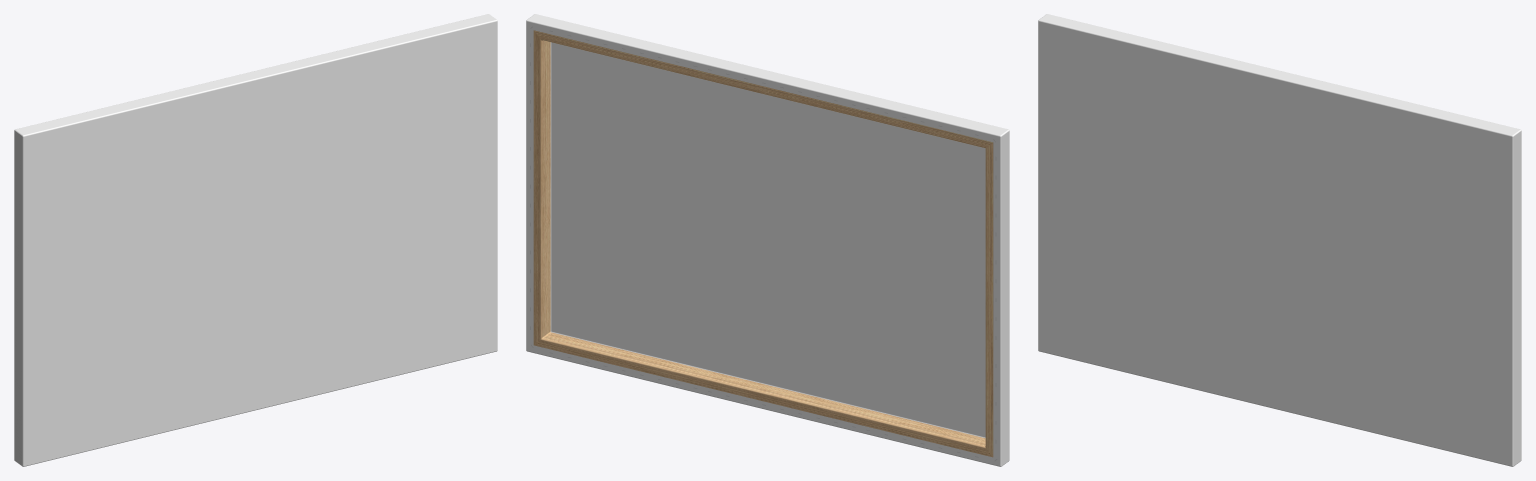
File: canvas-120x80x4cm-landscape-empty.glb
3 renders of one model, left to right at view 1: azimuth 30°, elevation 25°; view 2: azimuth 150°, elevation 25°; view 3: azimuth 330°, elevation 25°, orthographic.
Visible parts, largest first — view 1: Product; view 2: Product; view 3: Product.
Boxes of the visible parts, <box> form: Product: <box>14,14,497,466</box>; Product: <box>526,14,1009,466</box>; Product: <box>1038,14,1521,466</box>.
Size of the model in its own units: 1.2 by 0.8 by 0.0405.
4 materials, 2 textured.
